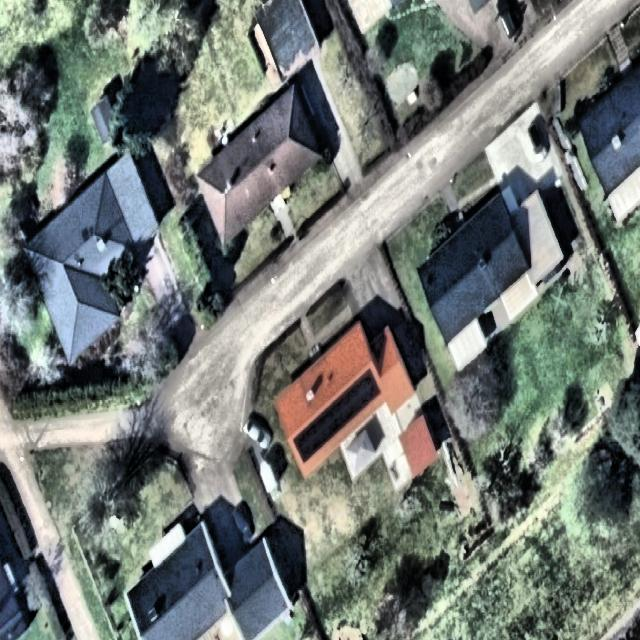roof_pv: (347, 365, 383, 425), (294, 405, 322, 466), (323, 389, 346, 448)
